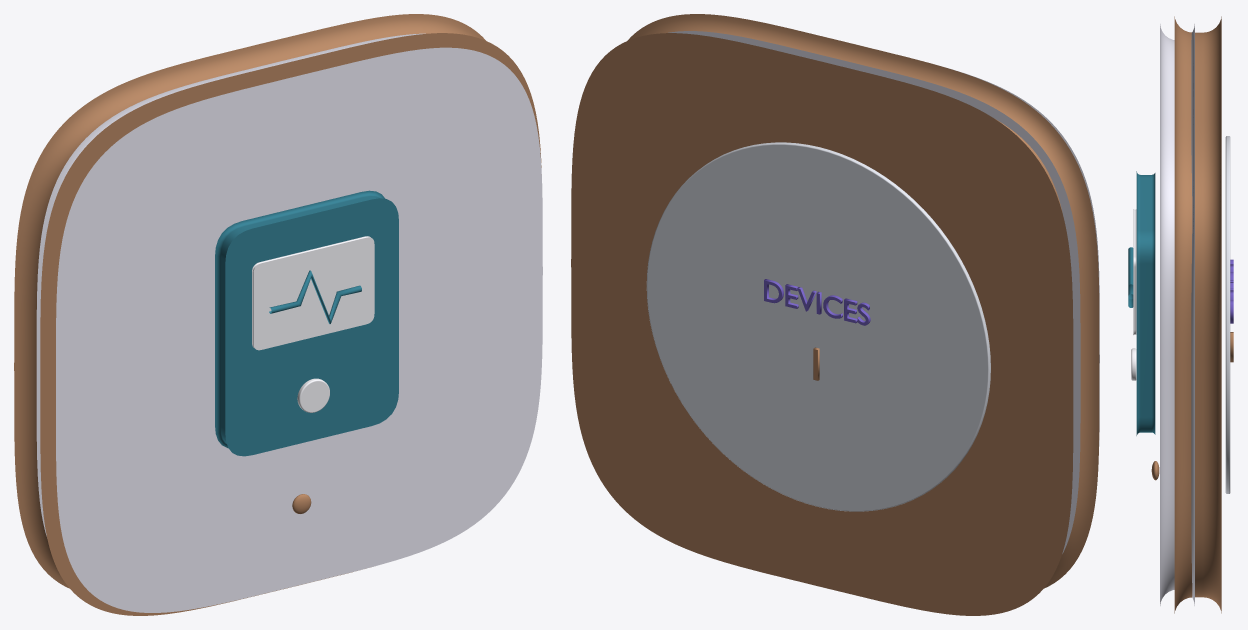
Rendered from ios-B-soft-devices-bronze.glb.
3 views of the same model, side by side, from view 1: azimuth 30°, elevation 25°; view 2: azimuth 150°, elevation 25°; view 3: azimuth 270°, elevation 25° (orthographic). The views are drawn at different scales.
Visible parts, largest first — view 1: Porcelain rounded-square face.010, Continuous-radius satin back.010, Device housing relief.001, Device display.001; view 2: Continuous-radius satin back.010, Reverse center.010, Porcelain rounded-square face.010, Reverse category.010; view 3: Continuous-radius satin back.010, Porcelain rounded-square face.010, Device housing relief.001, Reverse center.010, Device display.001, Reverse category.010.
Part boxes in pixels (x1,y1,x2,y2): Porcelain rounded-square face.010: (36, 33, 542, 612); Continuous-radius satin back.010: (14, 14, 541, 615); Device housing relief.001: (215, 190, 398, 456); Device display.001: (252, 236, 374, 412); Continuous-radius satin back.010: (571, 14, 1099, 615); Reverse center.010: (646, 142, 990, 511); Porcelain rounded-square face.010: (668, 31, 1099, 553); Reverse category.010: (764, 279, 870, 325); Continuous-radius satin back.010: (1151, 16, 1233, 613); Porcelain rounded-square face.010: (1160, 24, 1194, 605); Device housing relief.001: (1128, 171, 1155, 435); Reverse center.010: (1225, 136, 1230, 493); Device display.001: (1131, 209, 1136, 380); Reverse category.010: (1230, 259, 1233, 323).
Bounding box in the file's own units: 2.11 × 2.11 × 0.424.
